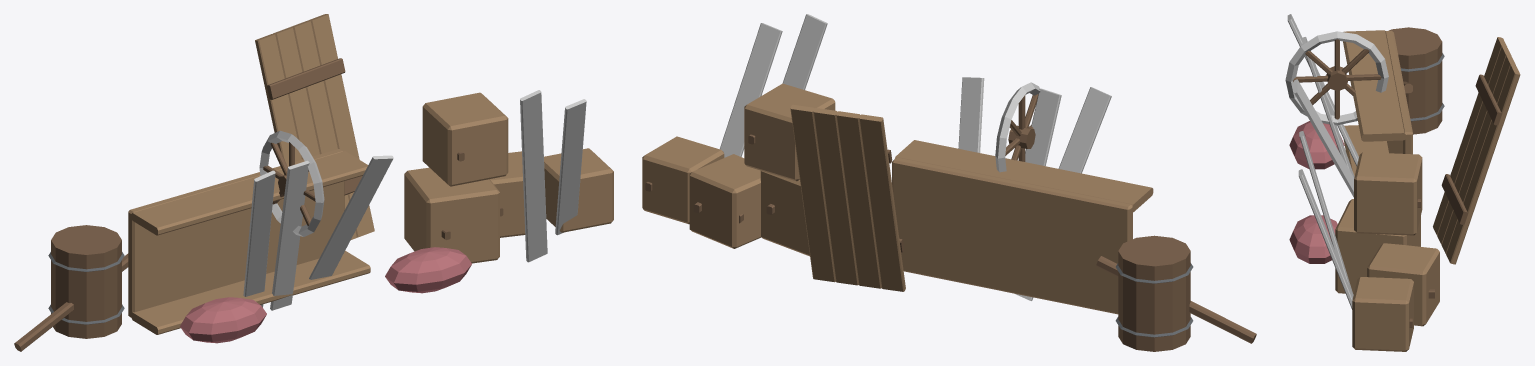
File: barricade.glb
The picture shows the model from 3 angles, left to right: view 1: azimuth 30°, elevation 25°; view 2: azimuth 150°, elevation 25°; view 3: azimuth 270°, elevation 25°; orthographic projection. The views are drawn at different scales.
Visible parts, largest first — view 1: barricade; view 2: barricade; view 3: barricade.
Part boxes in pixels (left/top/right/bottom): barricade: left=14, top=14, right=613, bottom=351; barricade: left=642, top=14, right=1256, bottom=351; barricade: left=1285, top=14, right=1520, bottom=351.
Bounding box in the file's own units: 6.32 × 2.23 × 2.31.
